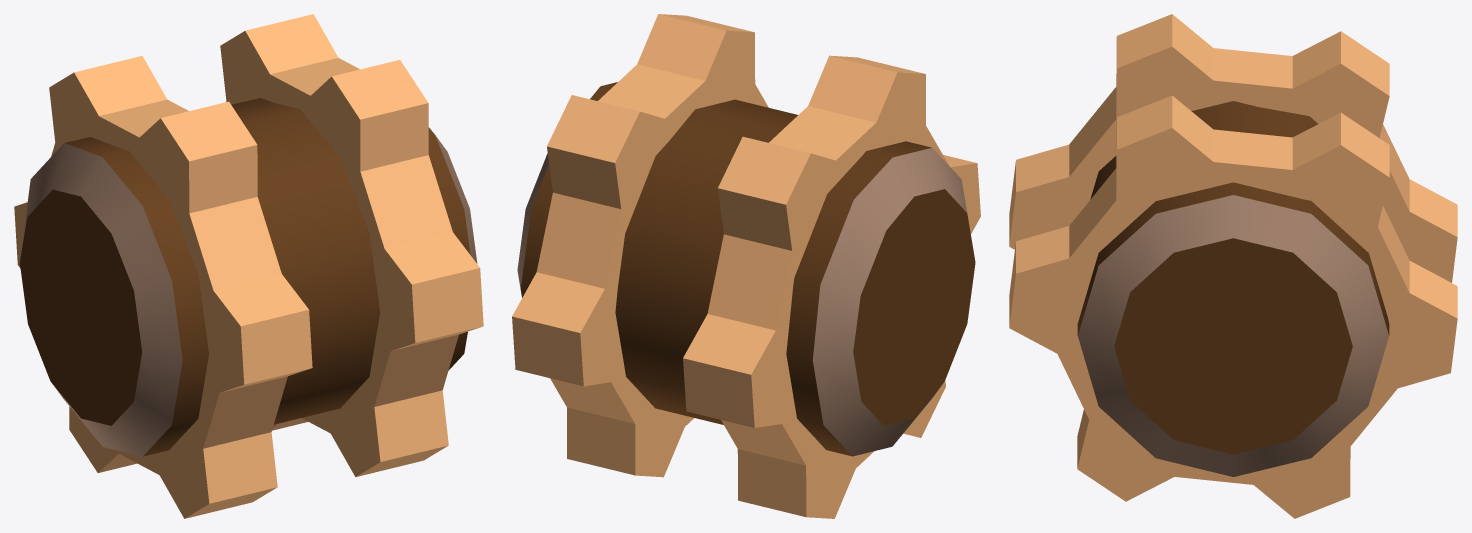
Rendered from obstacle_13_001.fbx.
3 renders of one model, left to right at view 1: azimuth 30°, elevation 25°; view 2: azimuth 150°, elevation 25°; view 3: azimuth 270°, elevation 25°, orthographic. The views are drawn at different scales.
Parts seen in each view (by area): view 1: obstacle_13_001; view 2: obstacle_13_001; view 3: obstacle_13_001.
Boxes of the visible parts, x1,y1,x2,y2 form: obstacle_13_001: (14, 14, 483, 518); obstacle_13_001: (512, 14, 980, 518); obstacle_13_001: (1009, 14, 1457, 518).
Bounding box in the file's own units: 77.69 × 92.08 × 88.6.
